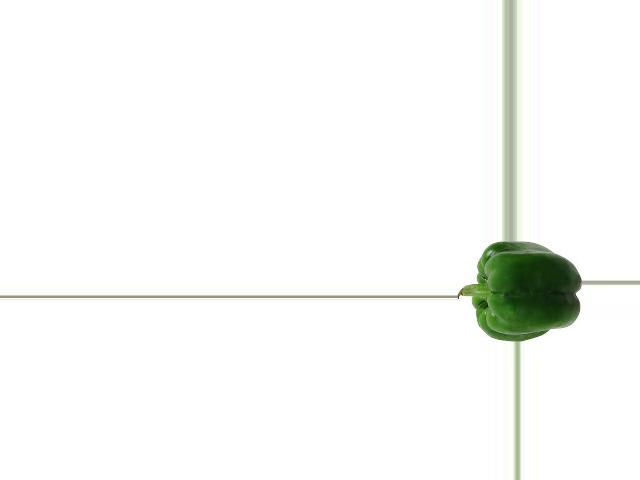bell_pepper: (459, 243, 582, 341)
